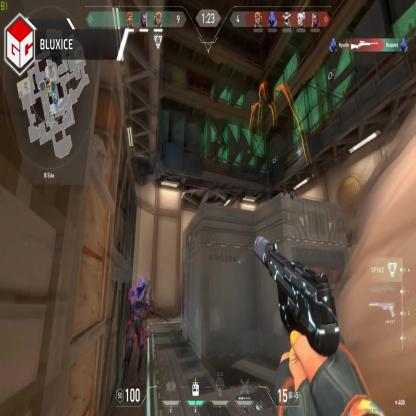enemy: (121, 274, 147, 394)
enemy_head: (136, 275, 145, 292)
